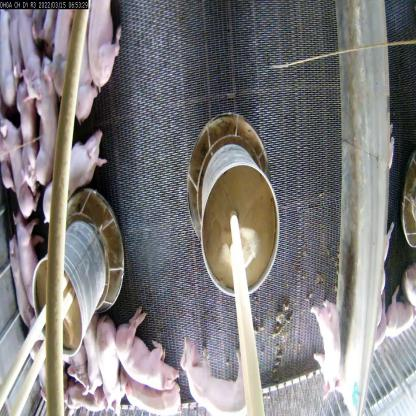Pig: (40, 119, 106, 232), (179, 322, 254, 415), (108, 306, 176, 394), (0, 103, 44, 238), (115, 342, 181, 416), (98, 306, 138, 416), (86, 0, 125, 95), (308, 296, 343, 396), (33, 59, 57, 191), (61, 321, 102, 396), (18, 80, 44, 196), (13, 206, 40, 308), (20, 5, 42, 106), (9, 229, 29, 335)
